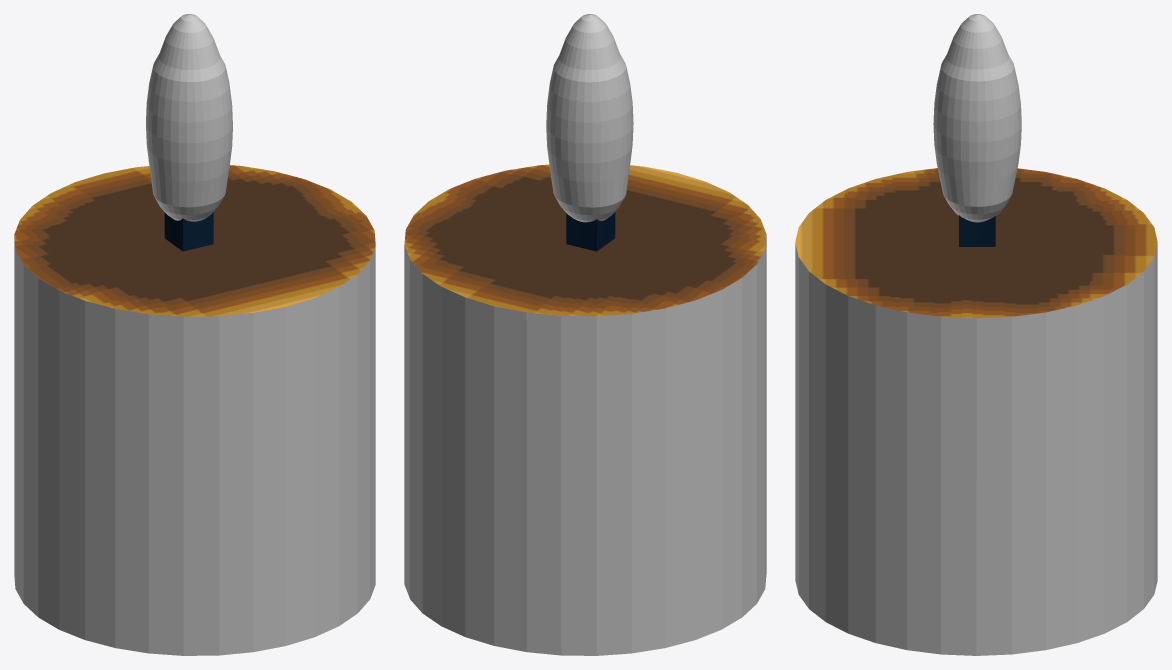
The model's file is Candle.fbx.
The picture shows the model from 3 angles, left to right: view 1: azimuth 30°, elevation 25°; view 2: azimuth 150°, elevation 25°; view 3: azimuth 270°, elevation 25°; orthographic projection.
Visible parts, largest first — view 1: Candle base, Flame, Wick; view 2: Candle base, Flame, Wick; view 3: Candle base, Flame, Wick.
Part boxes in pixels (x1=…): Candle base: x1=14, y1=165, x2=375, y2=655; Flame: x1=146, y1=14, x2=232, y2=221; Wick: x1=164, y1=212, x2=213, y2=251; Candle base: x1=404, y1=164, x2=766, y2=655; Flame: x1=546, y1=14, x2=633, y2=222; Wick: x1=566, y1=212, x2=615, y2=251; Candle base: x1=795, y1=168, x2=1157, y2=655; Flame: x1=933, y1=14, x2=1021, y2=222; Wick: x1=959, y1=215, x2=995, y2=246.
Bounding box in the file's own units: 244 × 420 × 246.
